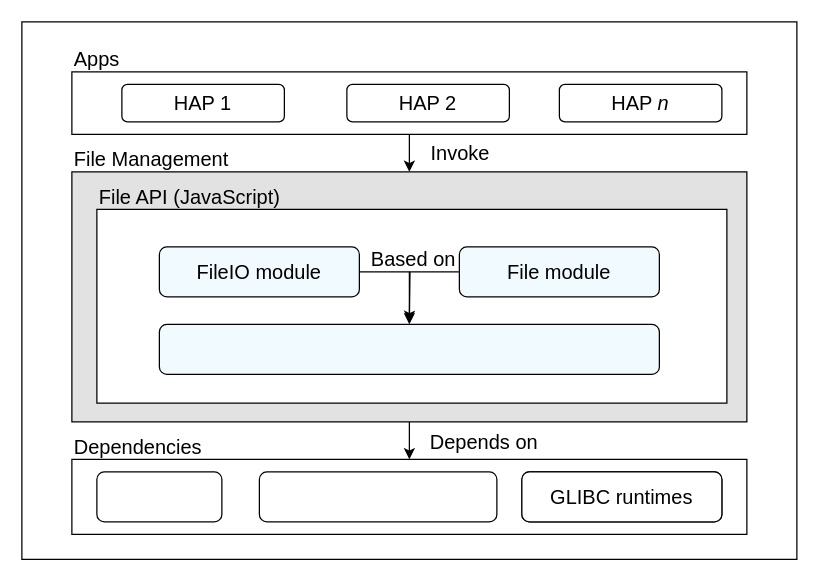
This 819x581 diagram has some shape labels left out. The centre of each missing label's shape, as x and y in pixels:
Application framework: (x=377, y=496)
JS app framework: (x=159, y=496)
LibN: (x=408, y=348)
